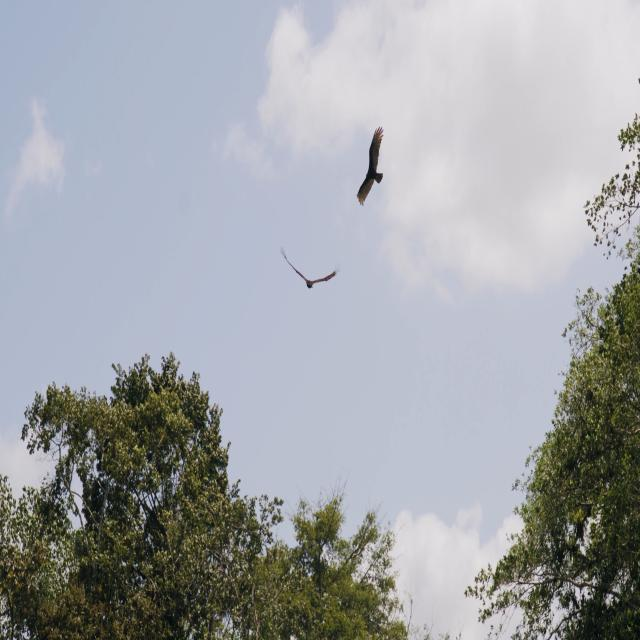bird: (279, 242, 342, 291), (355, 124, 385, 208)
